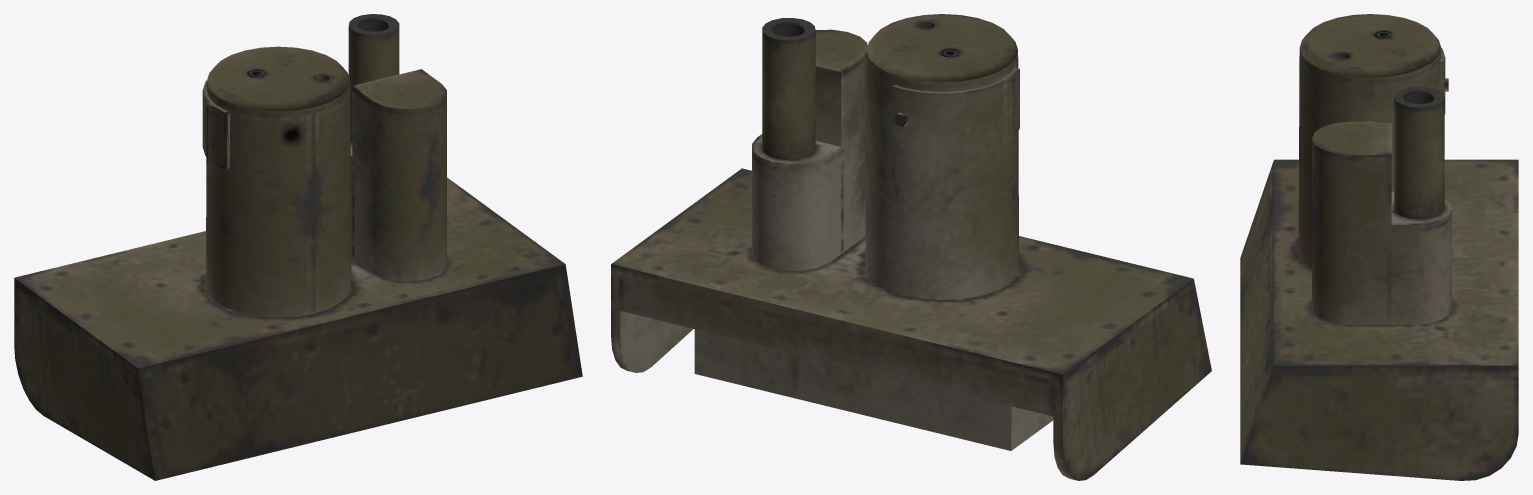
The model's file is Gun_01.glb.
3 views of the same model, side by side, from view 1: azimuth 30°, elevation 25°; view 2: azimuth 150°, elevation 25°; view 3: azimuth 270°, elevation 25° (orthographic). The views are drawn at different scales.
Visible parts, largest first — view 1: set_0_group_0; view 2: set_0_group_0; view 3: set_0_group_0.
Boxes of the visible parts, box(x1,y1,x2,y2) form: set_0_group_0: box(14, 14, 582, 480); set_0_group_0: box(611, 14, 1211, 480); set_0_group_0: box(1240, 14, 1518, 480).
Size of the model in its own units: 0.767 by 0.5677 by 0.4384.
1 material, 1 textured.
